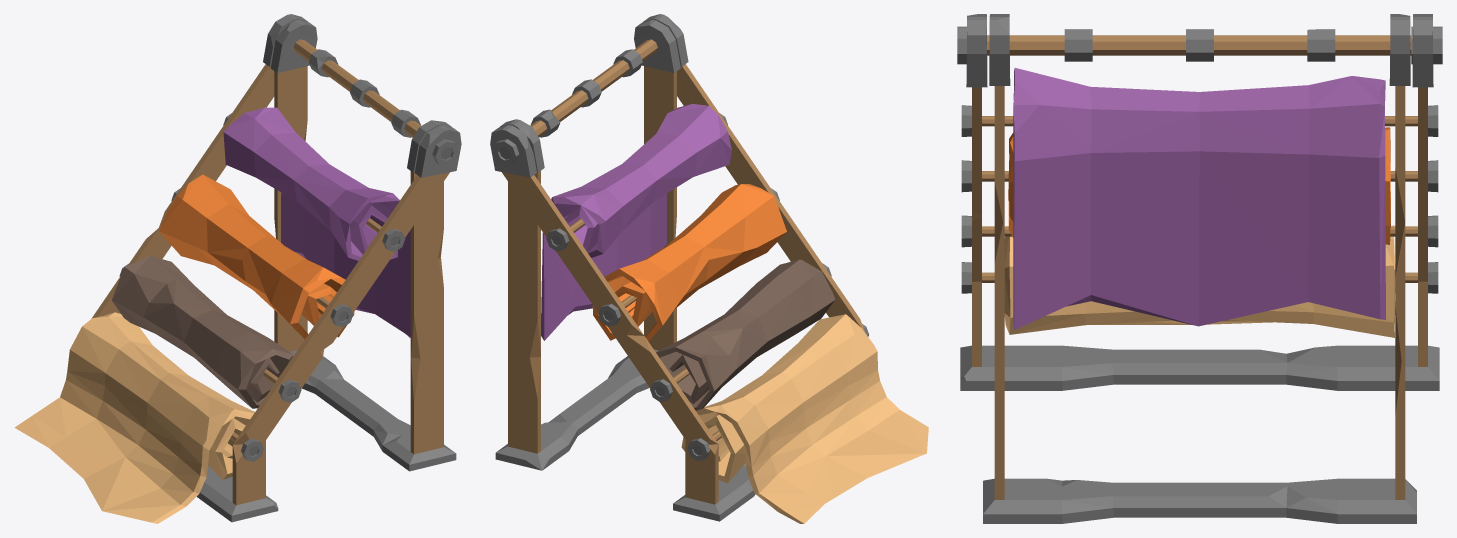
File: SFM_FS_Fabric_Stand_001.fbx
3 renders of one model, left to right at view 1: azimuth 30°, elevation 25°; view 2: azimuth 150°, elevation 25°; view 3: azimuth 270°, elevation 25°, orthographic. The views are drawn at different scales.
Visible parts, largest first — view 1: SFM_FS_Fabric_Stand_001; view 2: SFM_FS_Fabric_Stand_001; view 3: SFM_FS_Fabric_Stand_001.
Boxes of the visible parts, x1,y1,x2,y2 form: SFM_FS_Fabric_Stand_001: [14, 14, 461, 523]; SFM_FS_Fabric_Stand_001: [490, 14, 928, 523]; SFM_FS_Fabric_Stand_001: [957, 14, 1442, 523].
Bounding box in the file's own units: 135 × 136 × 121.
